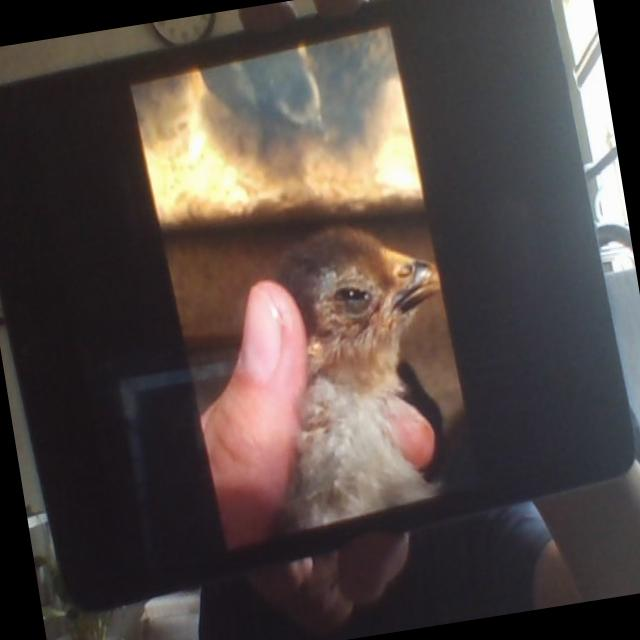Sick: (253, 211, 482, 536)
